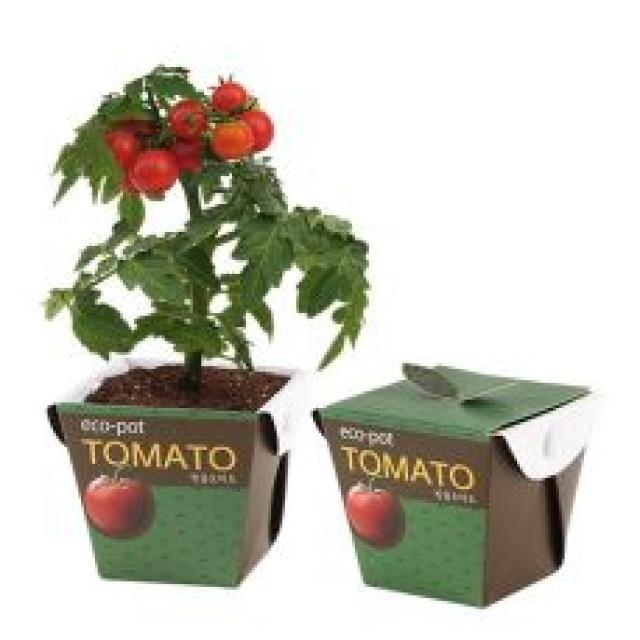level 5: (203, 116, 253, 170)
level 6: (121, 148, 173, 202), (203, 71, 257, 120), (95, 116, 142, 171), (227, 106, 280, 153), (168, 93, 212, 138), (168, 134, 209, 182)
